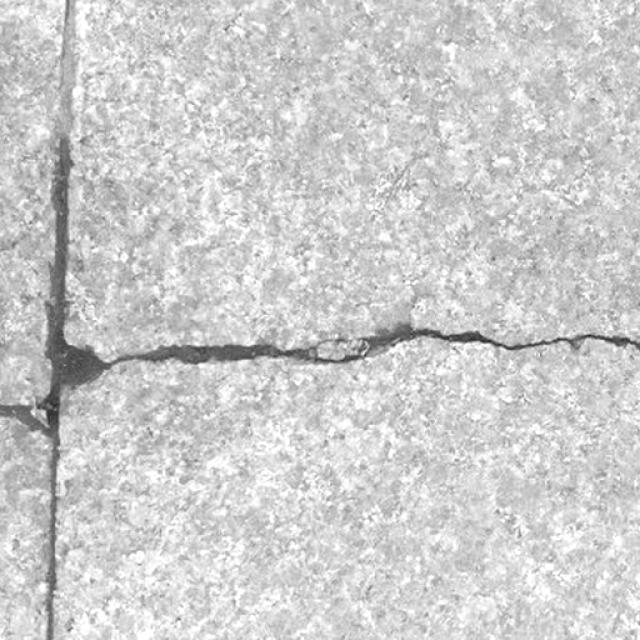SurfaceCrack: (0, 1, 178, 640), (0, 281, 635, 435)
